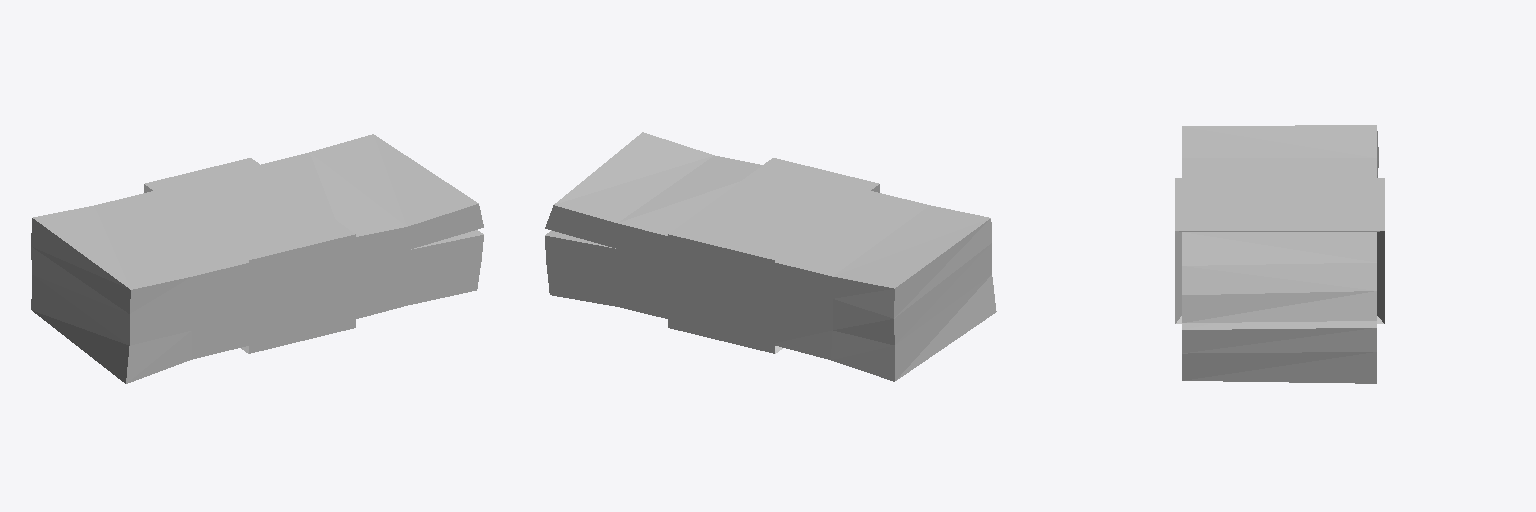
Rendered from cash.obj.
3 views of the same model, side by side, from view 1: azimuth 30°, elevation 25°; view 2: azimuth 150°, elevation 25°; view 3: azimuth 270°, elevation 25° (orthographic).
Parts seen in each view (by area): view 1: Plane; view 2: Plane; view 3: Plane.
Part boxes in pixels (x1,y1,x2,y2): Plane: (31,134,483,383); Plane: (545,132,996,381); Plane: (1175,125,1384,383).
Bounding box in the file's own units: 2.1 × 0.5433 × 1.06.